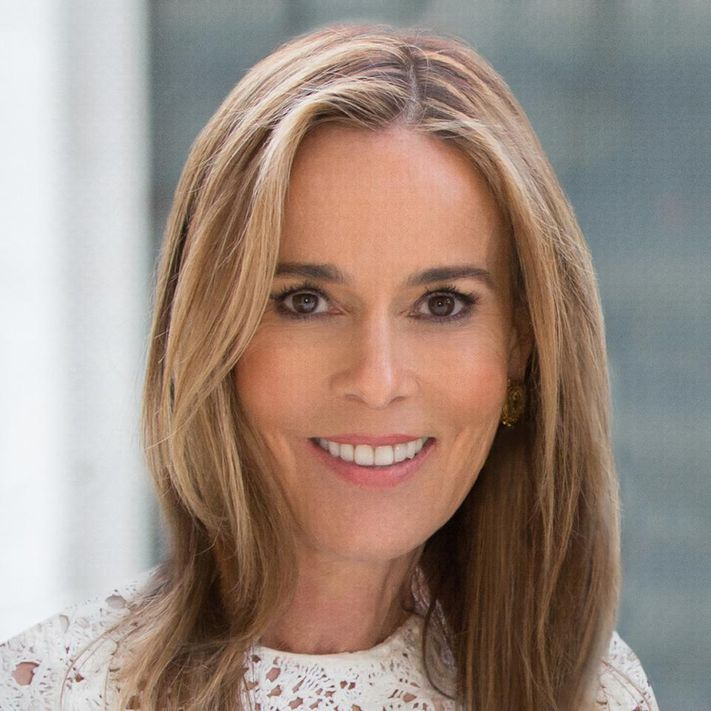Without Helmet: (144, 17, 642, 635)
